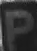Parking: (3, 3, 32, 46)
